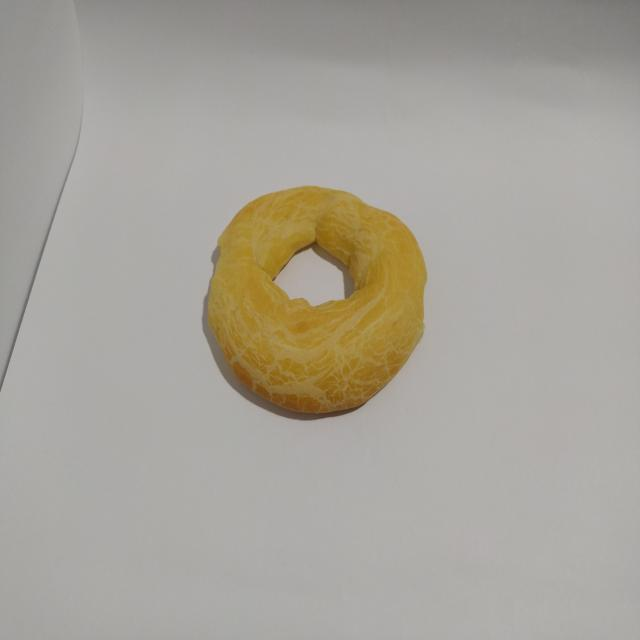Food: (190, 175, 437, 433)
